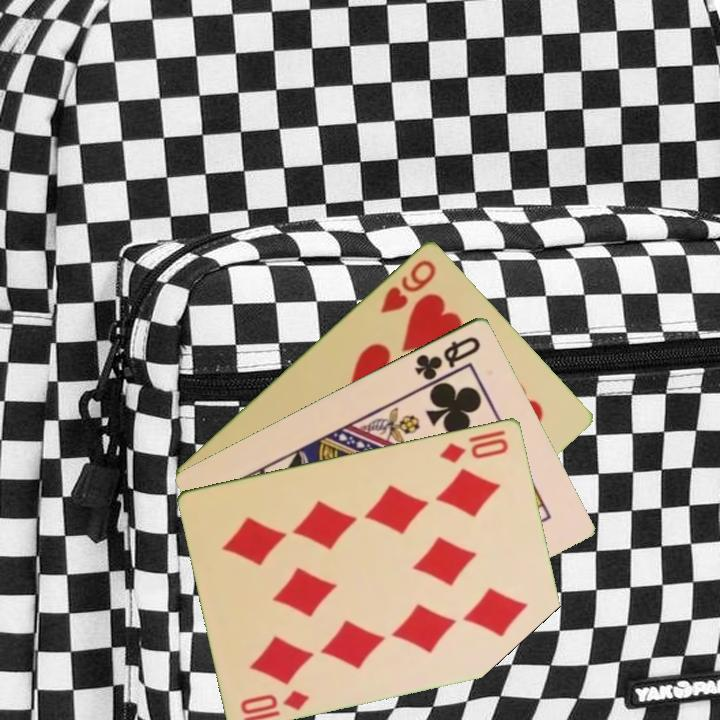10d: (436, 434, 512, 465), (237, 686, 313, 717)
9h: (376, 255, 439, 316)
Qc: (411, 332, 484, 383)
